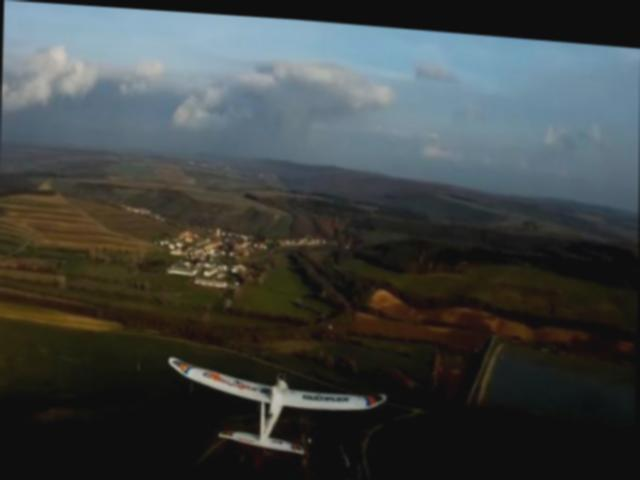iha: (169, 355, 383, 455)
